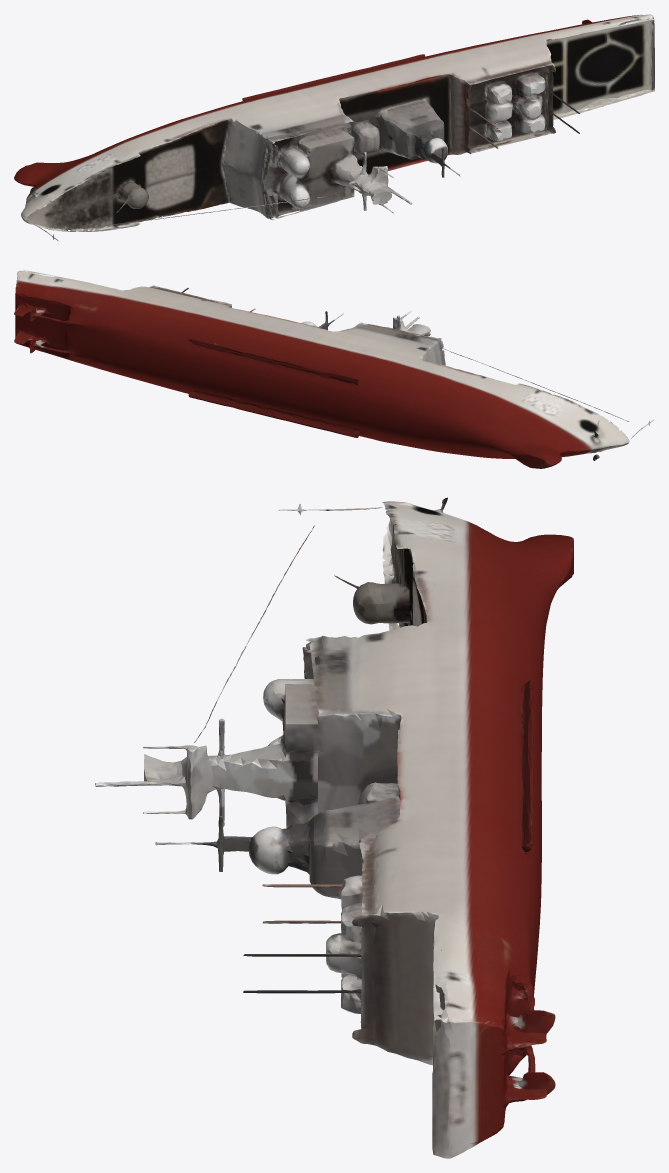
Rendered from Type_054A_Frigate_AI_Rodin.glb.
The picture shows the model from 3 angles, top to bottom: view 1: azimuth 30°, elevation 25°; view 2: azimuth 150°, elevation 25°; view 3: azimuth 270°, elevation 25°; orthographic projection. The views are drawn at different scales.
Parts seen in each view (by area): view 1: Type_054A_Frigate; view 2: Type_054A_Frigate; view 3: Type_054A_Frigate.
Part boxes in pixels (x1,y1,x2,y2): Type_054A_Frigate: (14,14,654,241); Type_054A_Frigate: (14,270,654,468); Type_054A_Frigate: (95,497,573,1158).
Bounding box in the file's own units: 1.9 × 0.2453 × 0.6589.
Materials: 1 (1 with a texture image).
